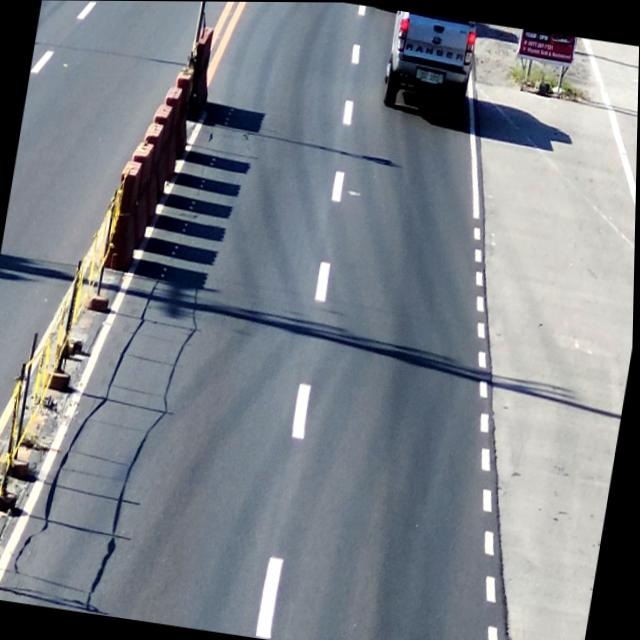Car: (380, 10, 480, 122)
License-Plate: (417, 67, 445, 92)
